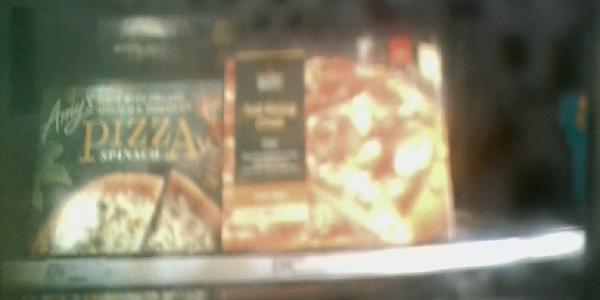pizza1: (219, 51, 452, 243), (25, 78, 218, 252)
